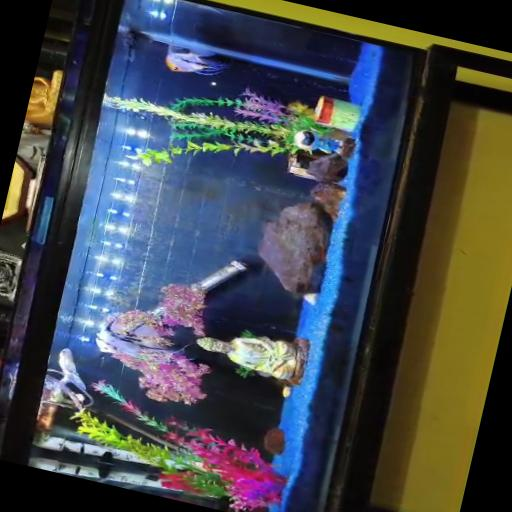Fish: (96, 318, 187, 363), (59, 349, 93, 411), (166, 46, 229, 75), (96, 317, 141, 353)
